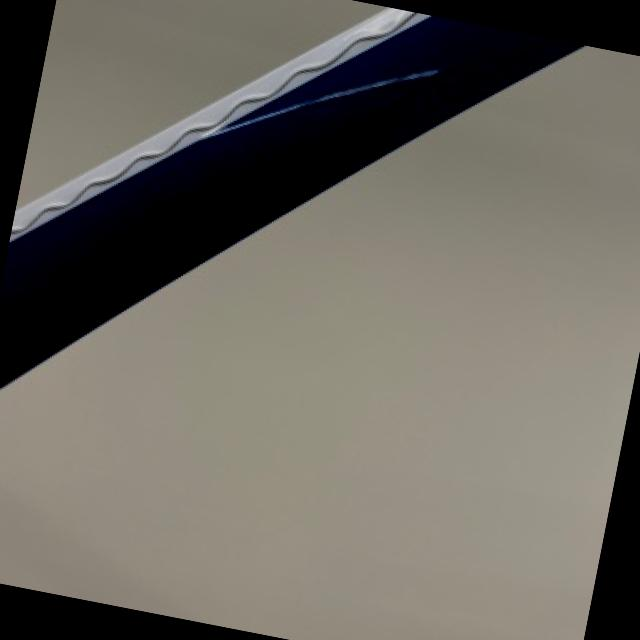healthy: (0, 48, 640, 640)
